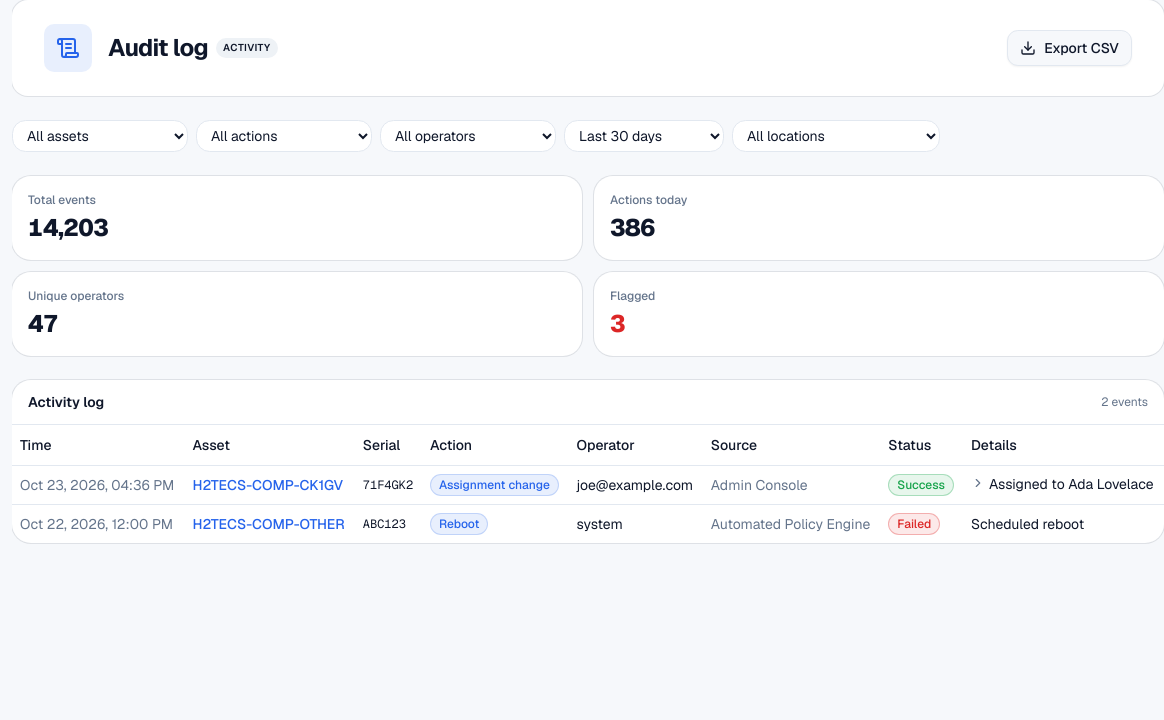
Test: AuditLogView › expands a row to show detail fields
The width and height of the screenshot is (1164, 720).
expect the text "T-14" is not shown: met
Click the button "Assigned to Ada Lovelace".
click(1062, 484)  # box [971, 474, 1154, 494]
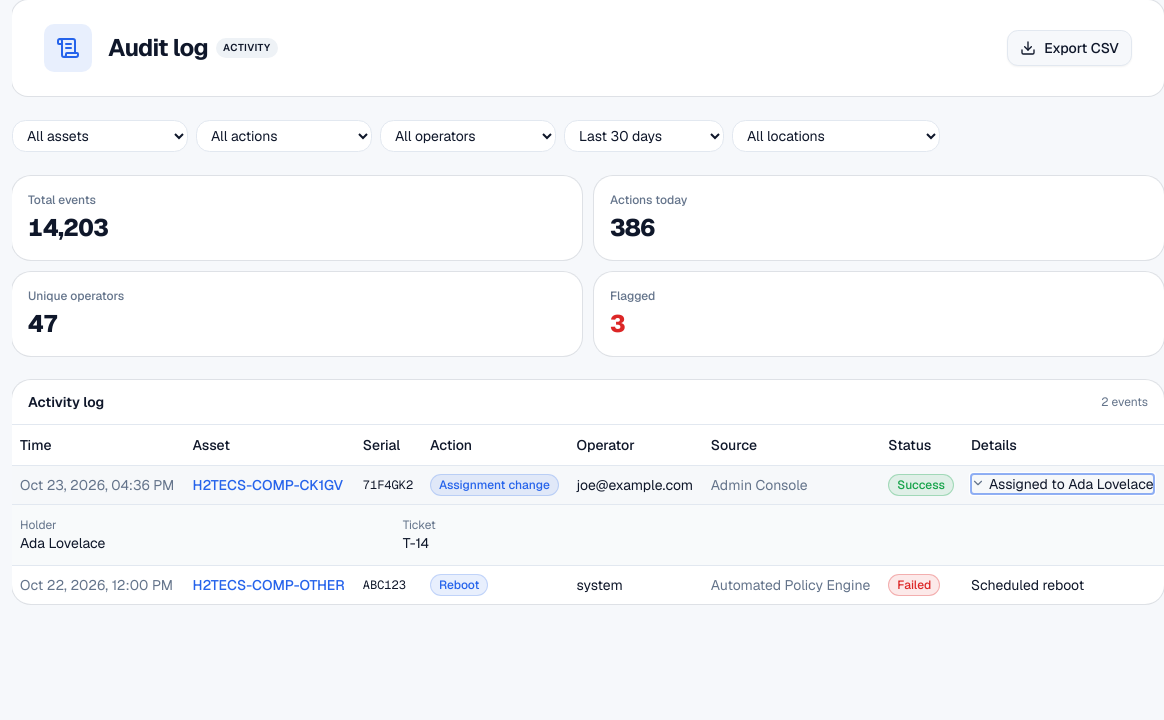
expect the text "T-14" is shown: met, box [403, 534, 429, 552]
expect the text "Holder" is shown: met, box [20, 516, 57, 532]
